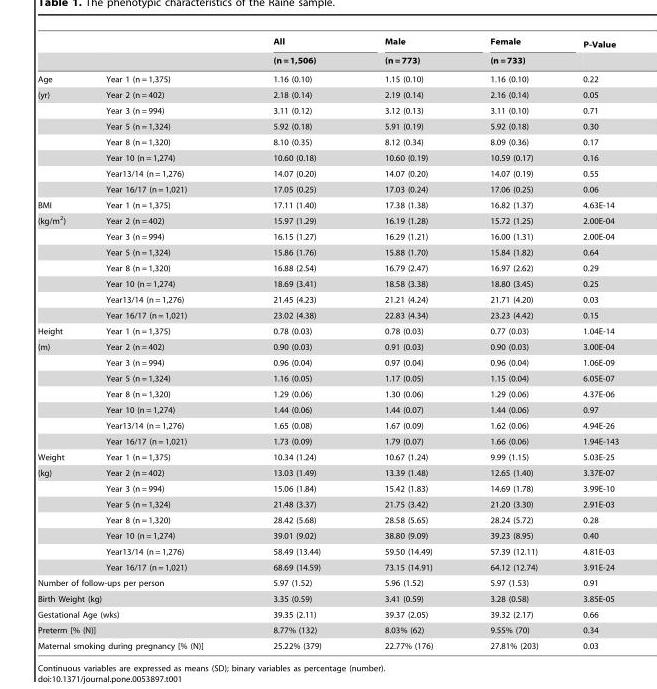table: (37, 36, 618, 650)
table column: (85, 36, 237, 650), (237, 36, 352, 650), (352, 36, 460, 650), (460, 36, 560, 650), (560, 36, 618, 650), (37, 36, 85, 650)
table column header: (37, 36, 618, 69)
table row: (37, 52, 618, 69), (37, 69, 618, 86), (37, 36, 618, 52), (37, 86, 618, 102), (37, 102, 618, 118), (37, 118, 618, 134), (37, 149, 618, 165), (37, 165, 618, 181), (37, 181, 618, 197), (37, 212, 618, 228), (37, 228, 618, 244), (37, 244, 618, 260), (37, 275, 618, 291), (37, 291, 618, 307), (37, 307, 618, 323), (37, 338, 618, 354), (37, 354, 618, 370), (37, 370, 618, 386), (37, 401, 618, 417), (37, 417, 618, 433), (37, 433, 618, 449), (37, 464, 618, 480), (37, 480, 618, 496), (37, 496, 618, 512), (37, 527, 618, 543), (37, 543, 618, 559), (37, 559, 618, 575), (37, 590, 618, 606), (37, 606, 618, 622), (37, 134, 618, 149), (37, 197, 618, 212), (37, 260, 618, 275), (37, 323, 618, 338), (37, 386, 618, 401), (37, 449, 618, 464), (37, 512, 618, 527), (37, 575, 618, 590), (37, 622, 618, 637), (37, 637, 618, 650)
table spanning cell: (37, 86, 85, 197), (37, 212, 85, 323), (37, 338, 85, 449), (37, 464, 85, 575), (237, 36, 352, 69), (352, 36, 460, 69), (460, 36, 560, 69), (37, 590, 237, 606), (37, 606, 237, 622), (37, 575, 237, 590), (37, 622, 237, 637), (37, 637, 237, 650), (560, 36, 618, 69)
